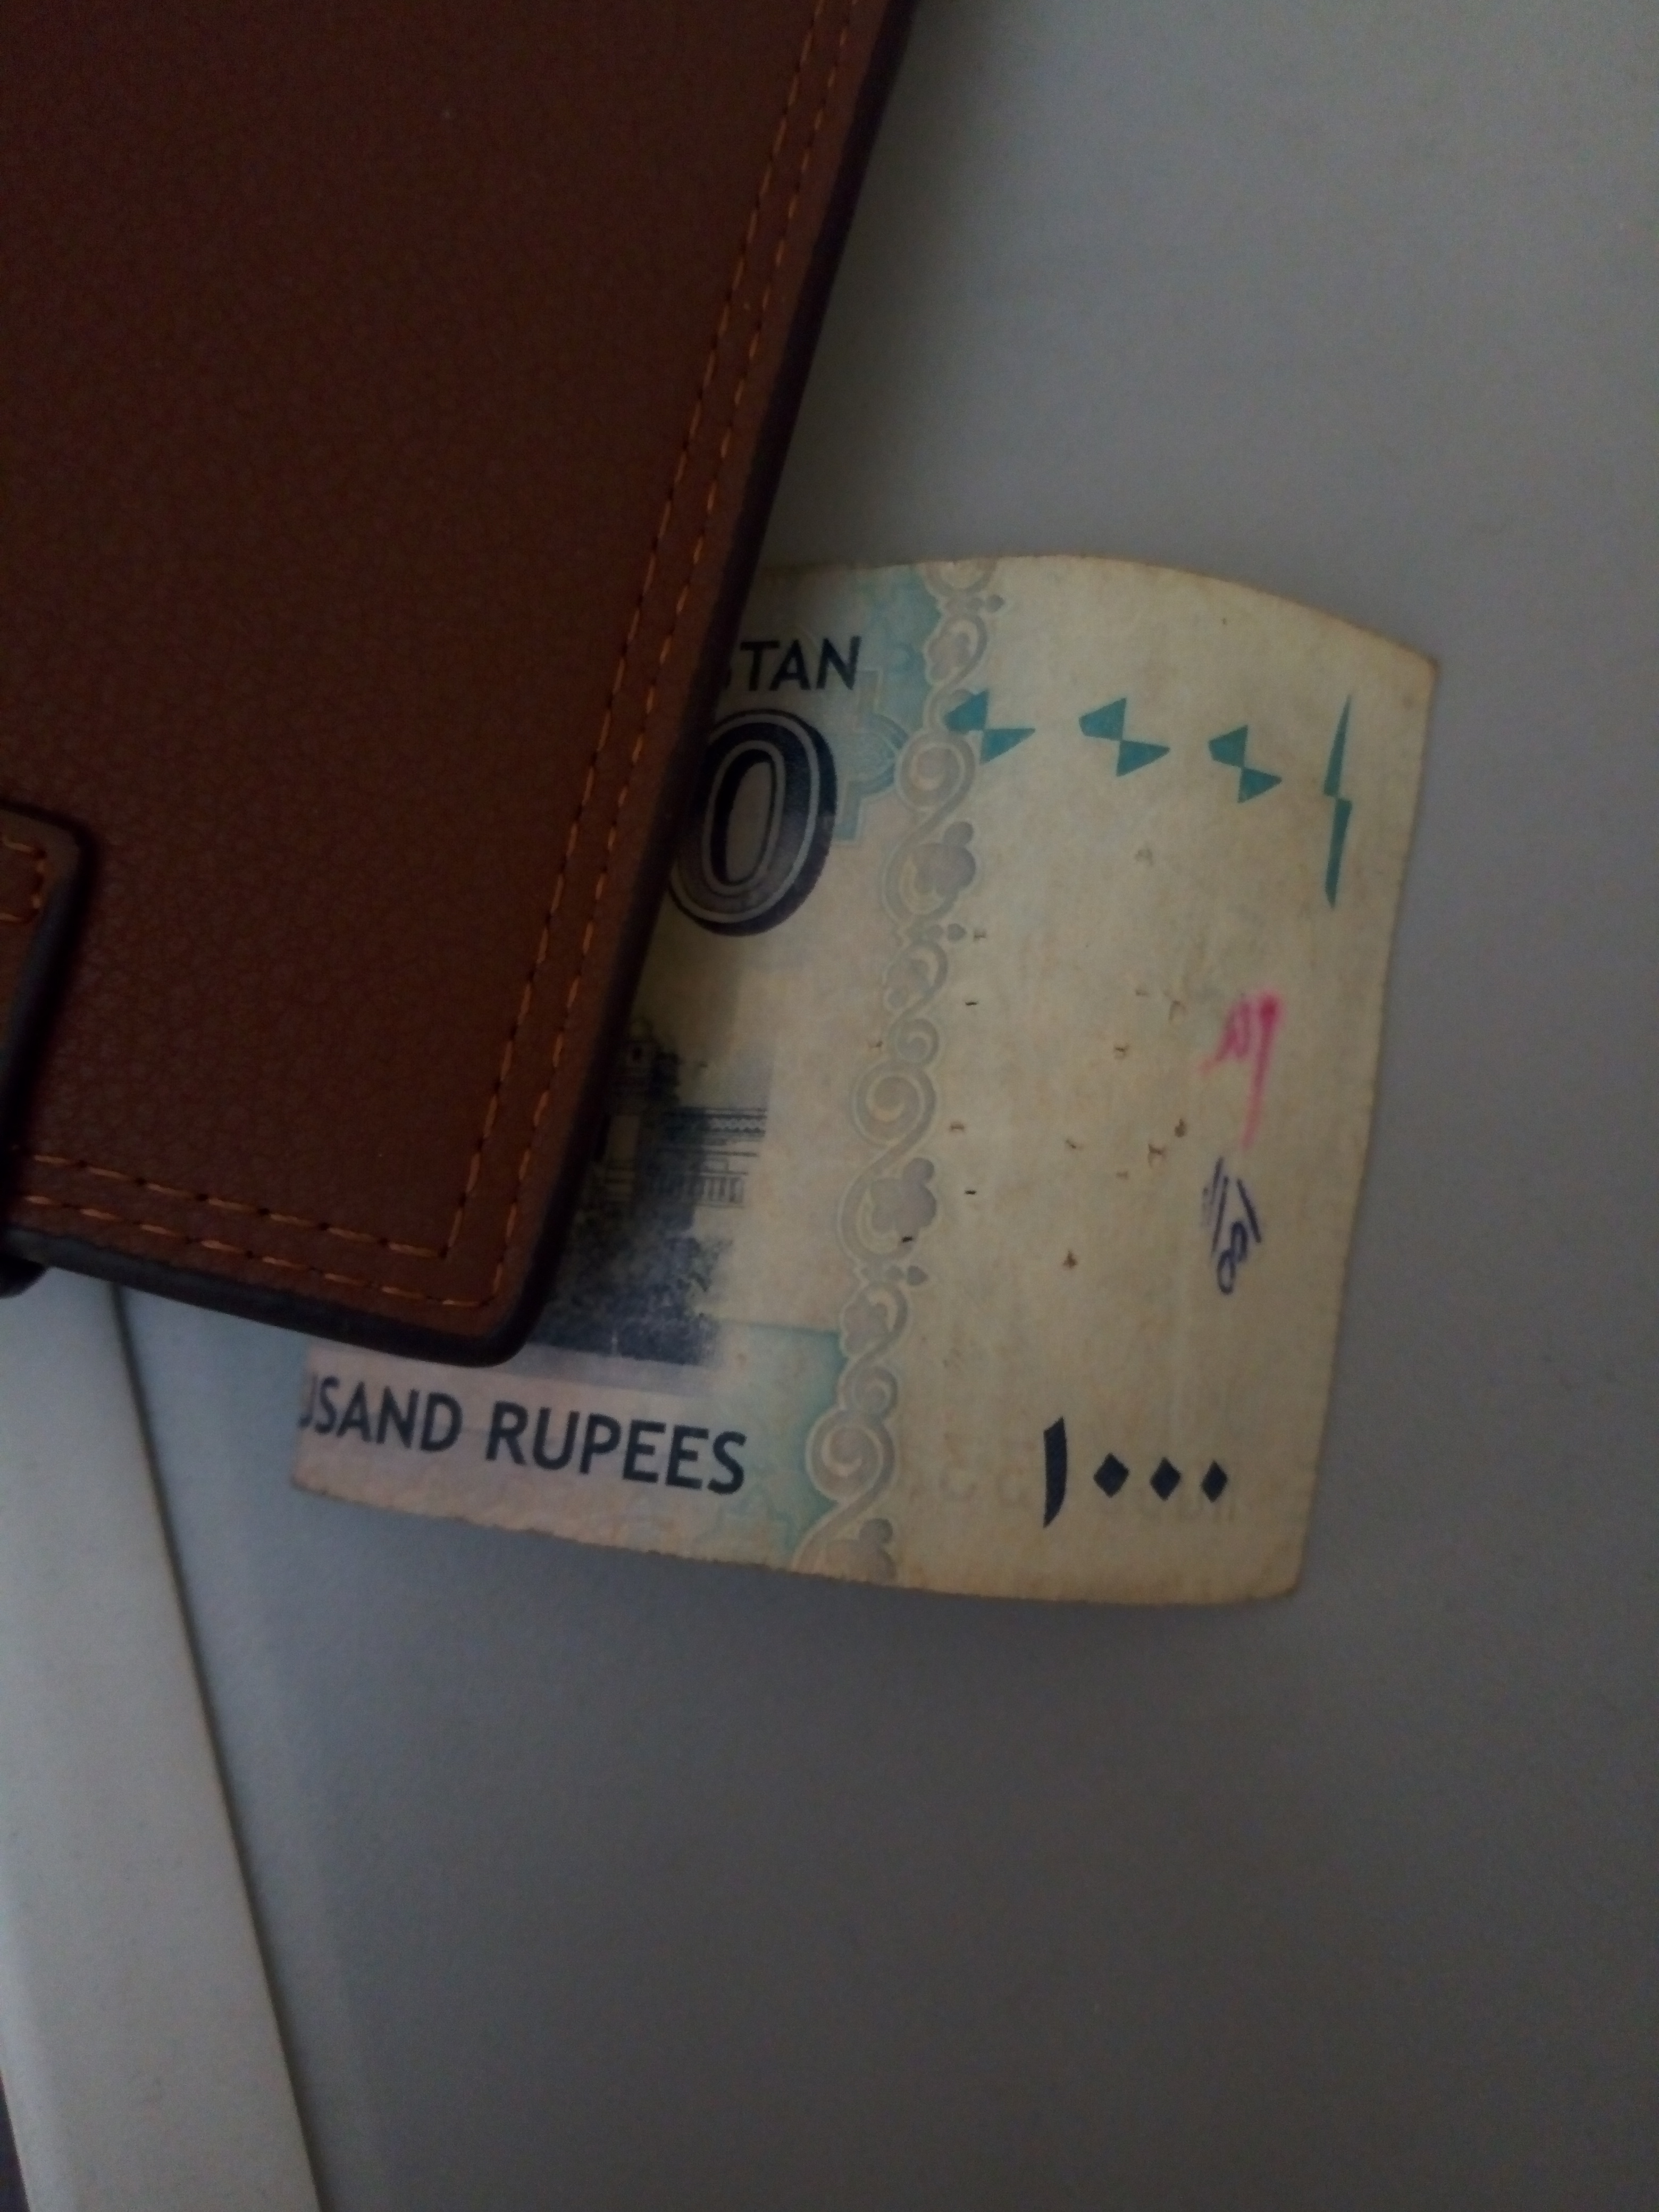1000 rupee: (279, 451, 1527, 1604), (990, 1318, 1314, 1581)
